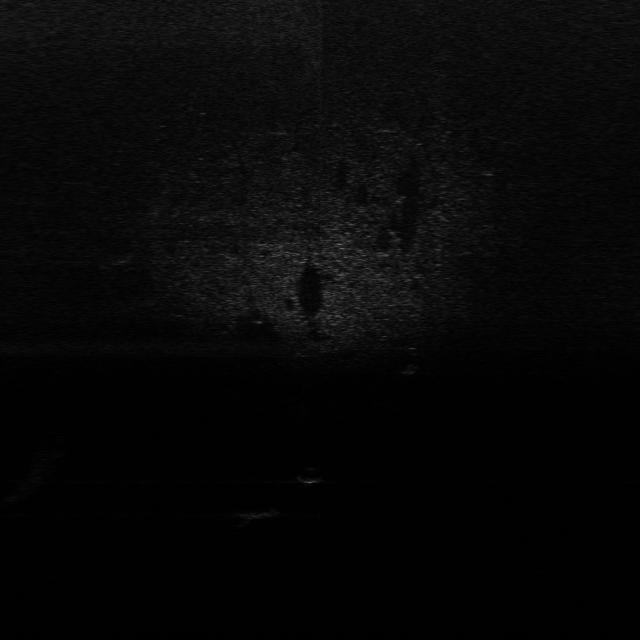ball: (294, 466, 324, 488)
square cage: (238, 501, 284, 523)
tyre: (393, 344, 423, 377)
